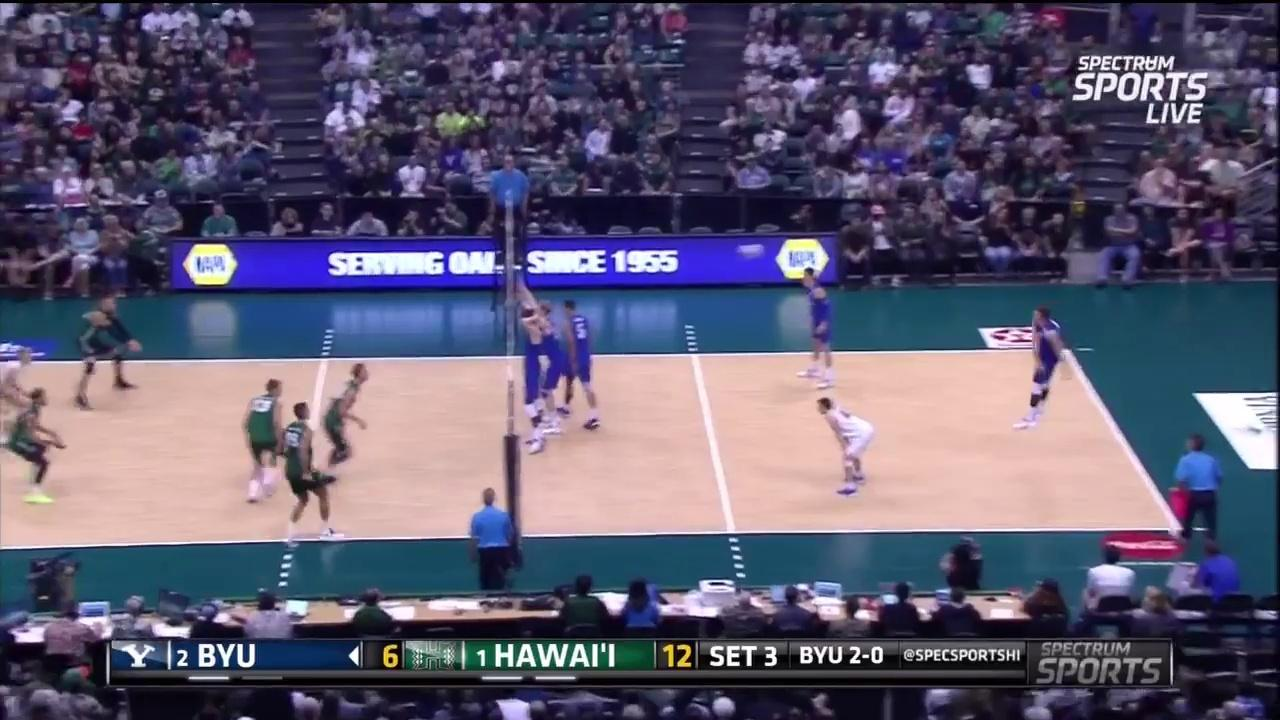player: (284, 398, 339, 545), (72, 296, 143, 409), (1016, 308, 1079, 427), (519, 274, 564, 425), (12, 389, 62, 509), (238, 380, 287, 501), (553, 298, 598, 427), (815, 398, 872, 496), (319, 361, 369, 471), (519, 309, 548, 459), (0, 344, 43, 445), (799, 265, 833, 384)
refree: (1162, 434, 1221, 548), (467, 482, 521, 589), (486, 151, 531, 266)
